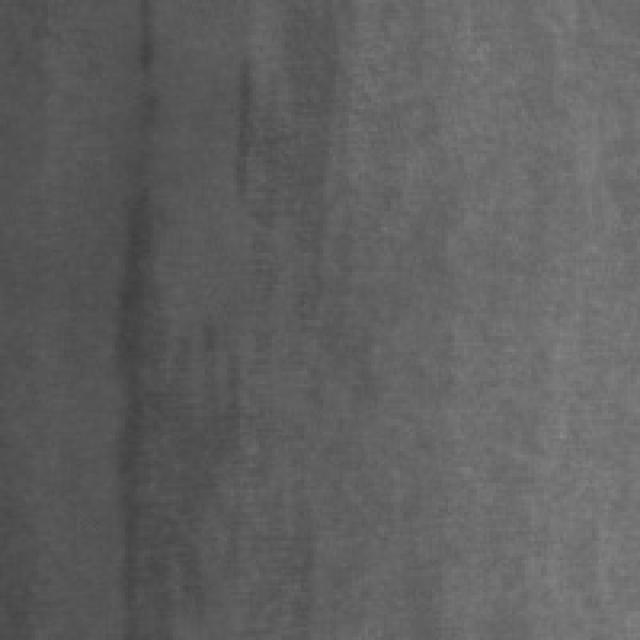inclusion: (86, 3, 202, 618), (214, 42, 266, 234)
